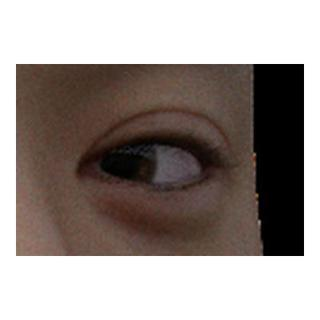pupil: (99, 145, 134, 180)
